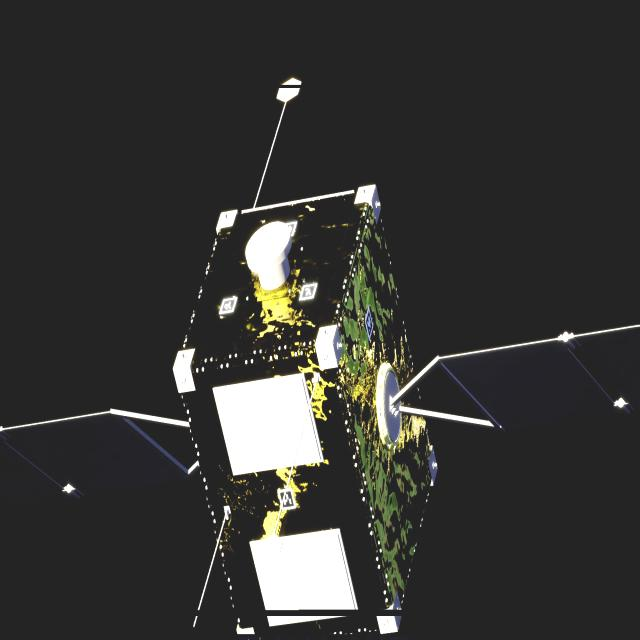satellite: (0, 185, 640, 640)
